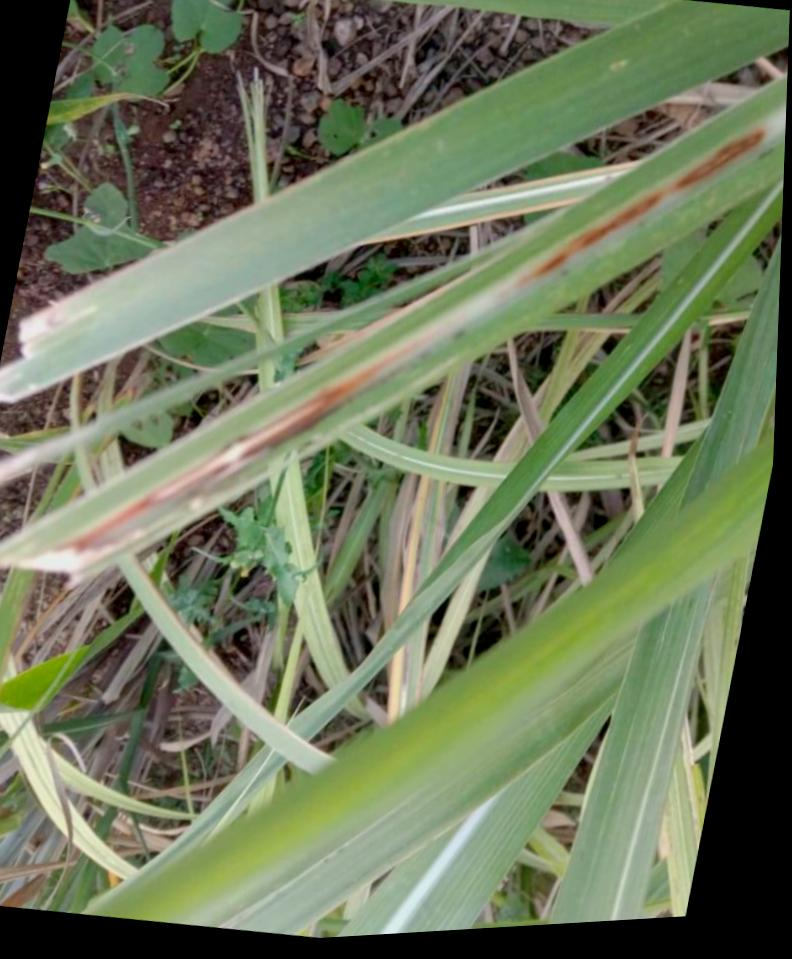RedRot: (69, 319, 452, 547), (517, 125, 771, 285)
